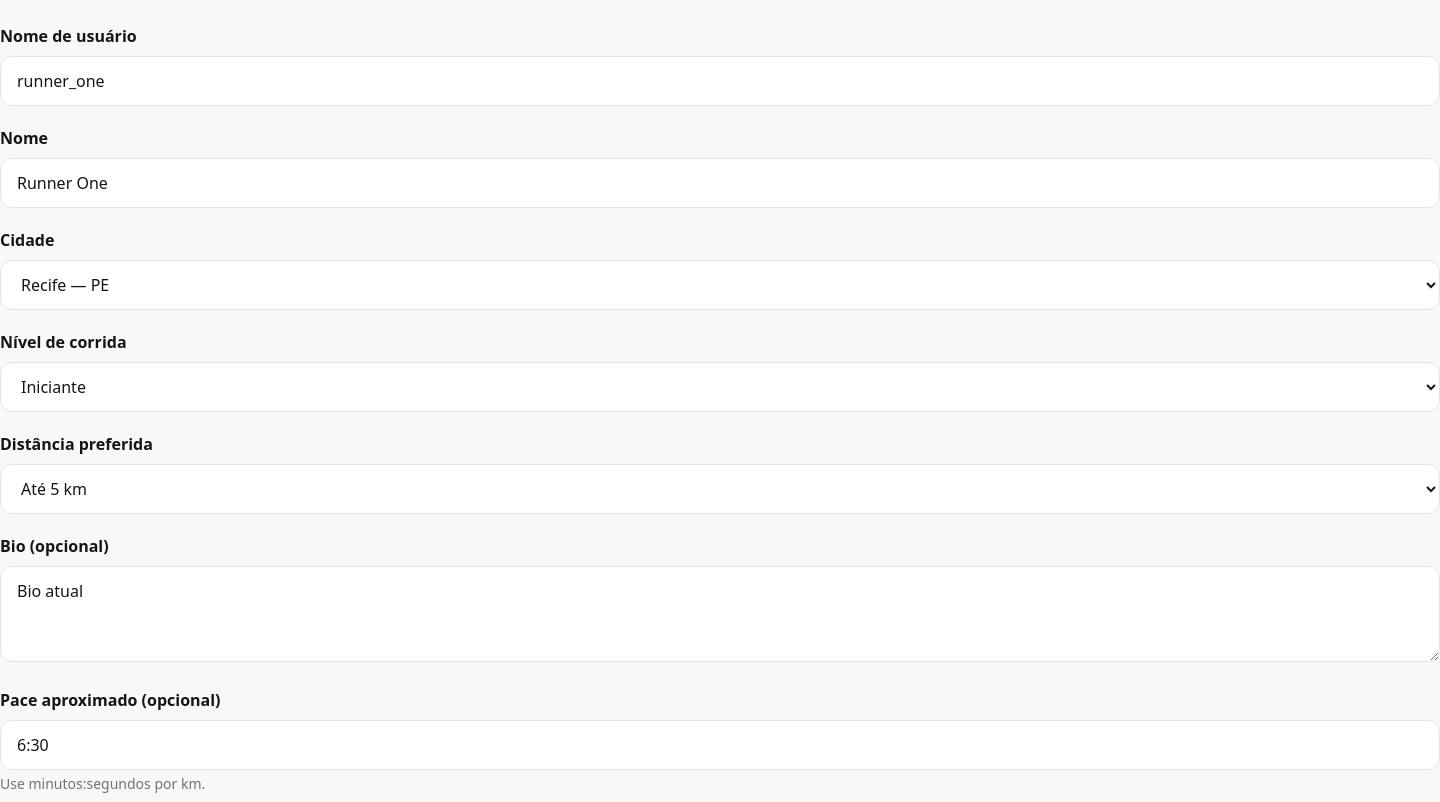
Test: ProfileForm › prevents duplicate submission and preserves values after a conflict
The width and height of the screenshot is (1440, 802).
Replace the text in the field labelled "Nome de usuário" with "runner_new" at coordinates (720, 81), box [0,56,1439,106]
(page scrolled)
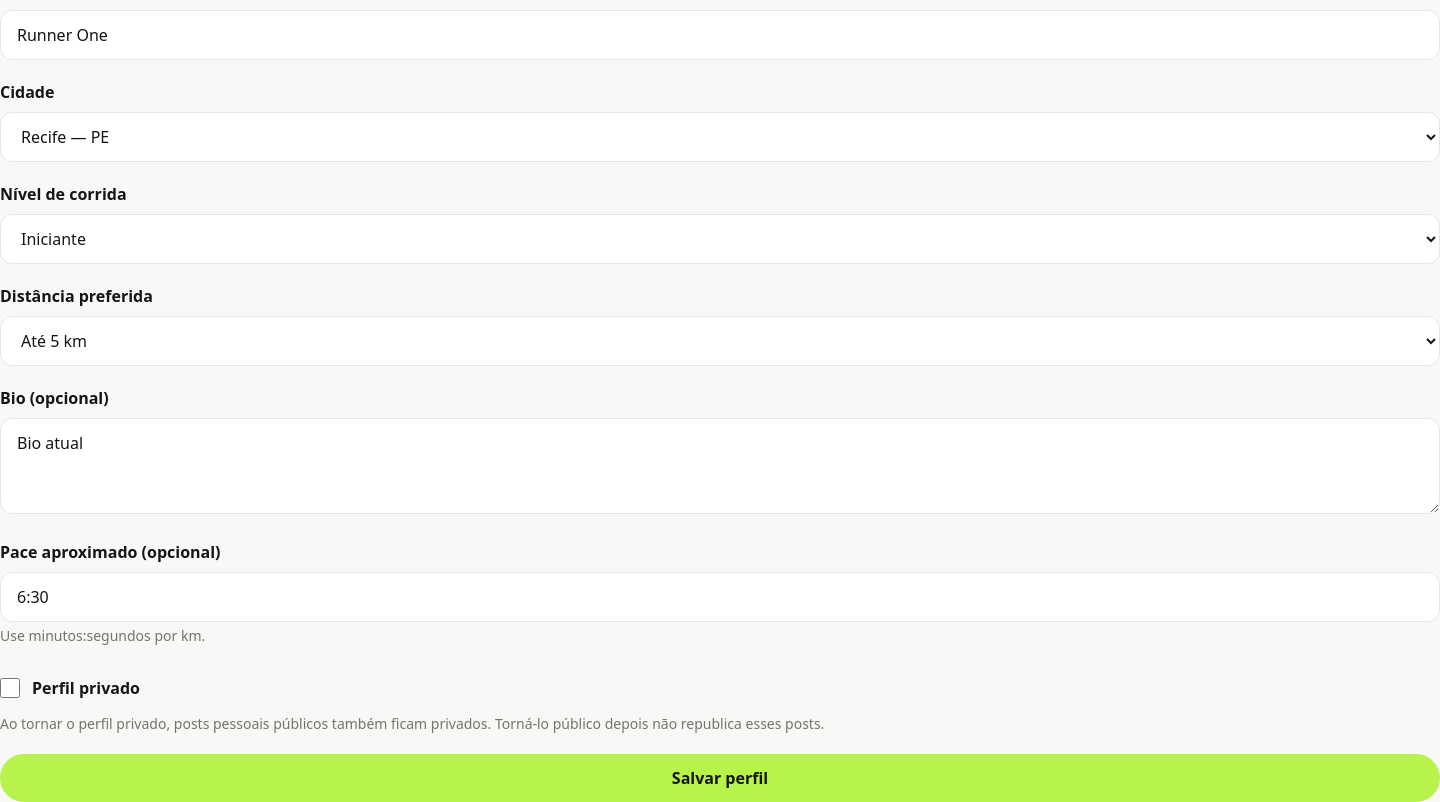
Click the button "Salvar perfil" at coordinates (720, 778), box [0,754,1439,801]
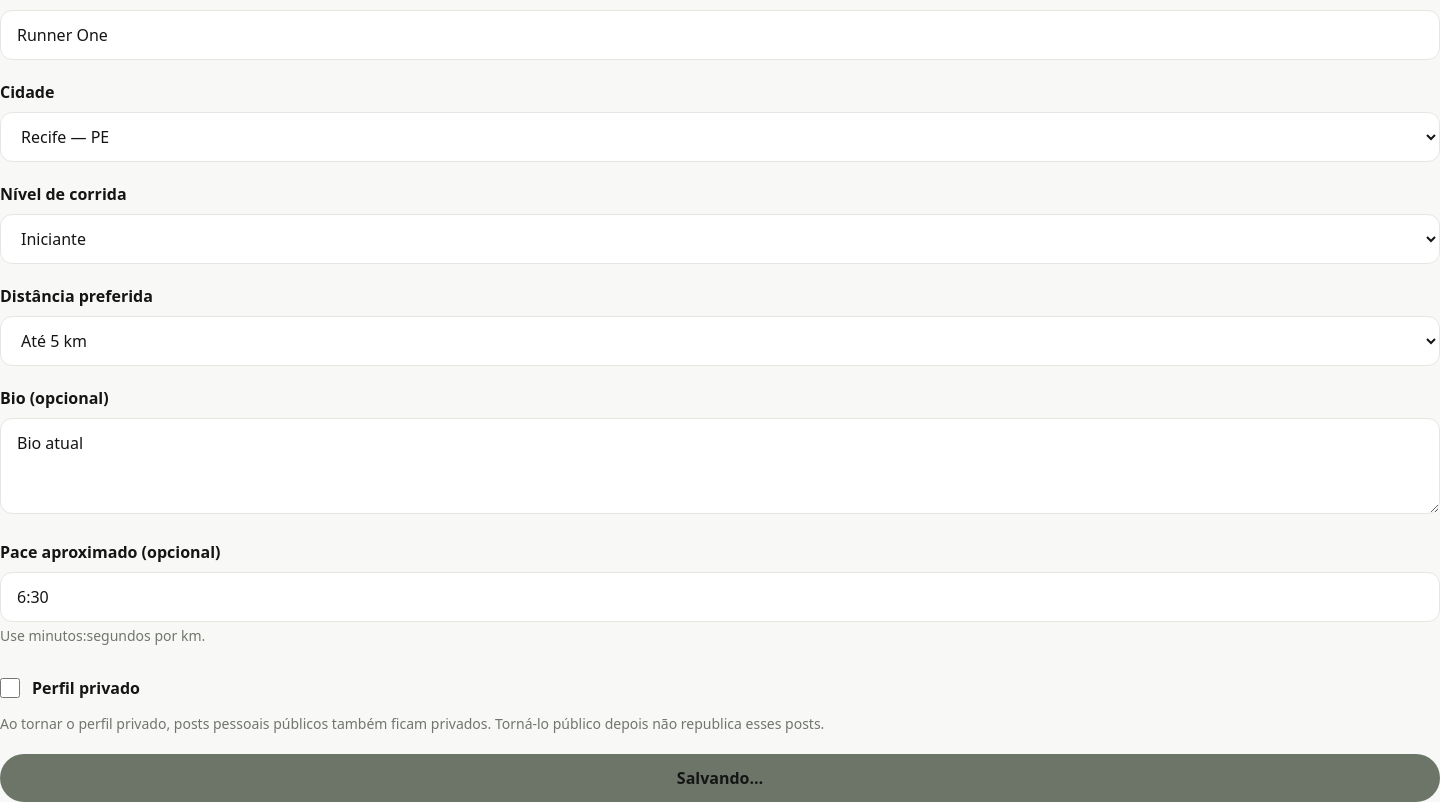
Result: the button named "Salvar perfil" is disabled
Click the button named "Salvar perfil" at coordinates (720, 778), box [0,754,1439,801]
(page scrolled)
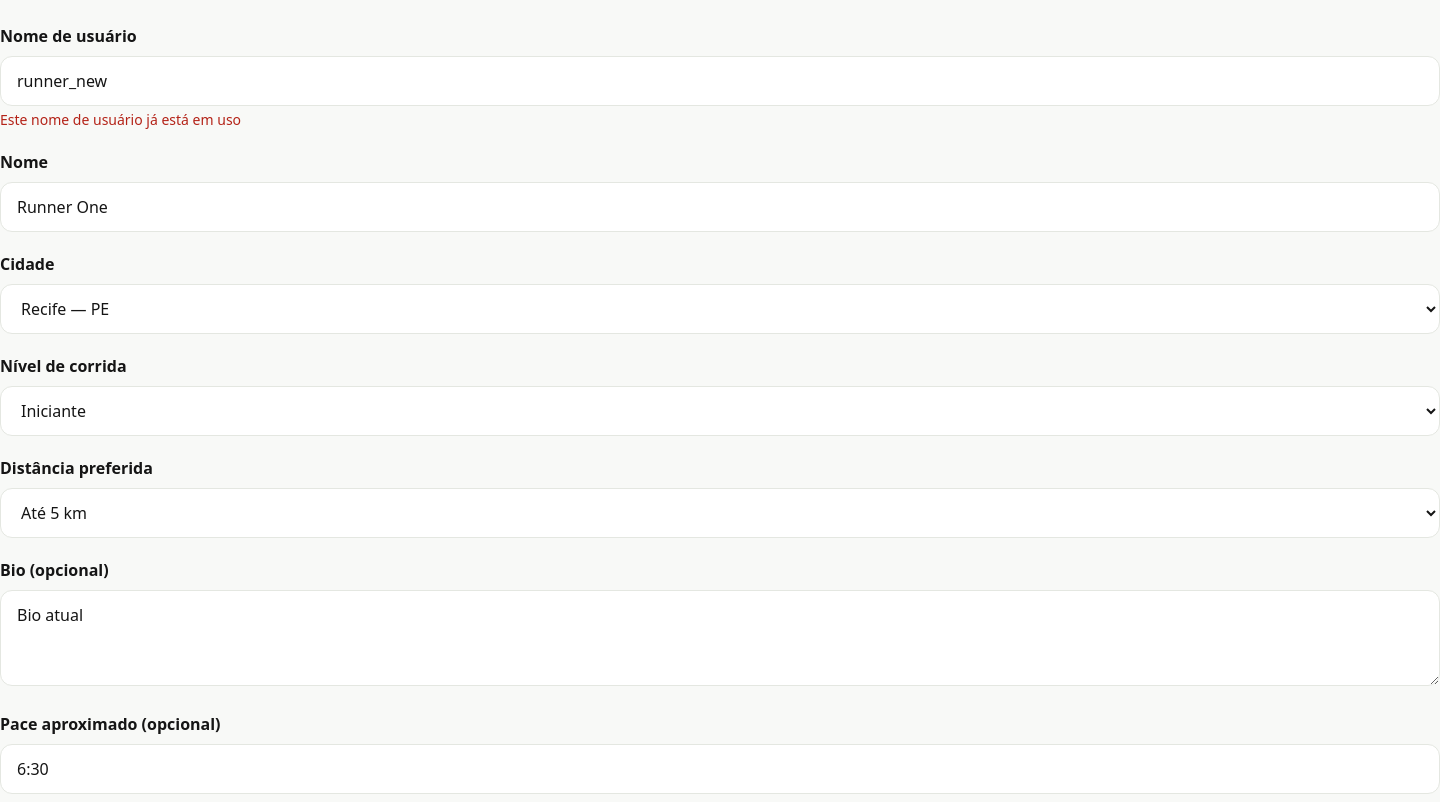
Result: the text "Este nome de usuário já está em uso" is shown at [0,110,241,129]
